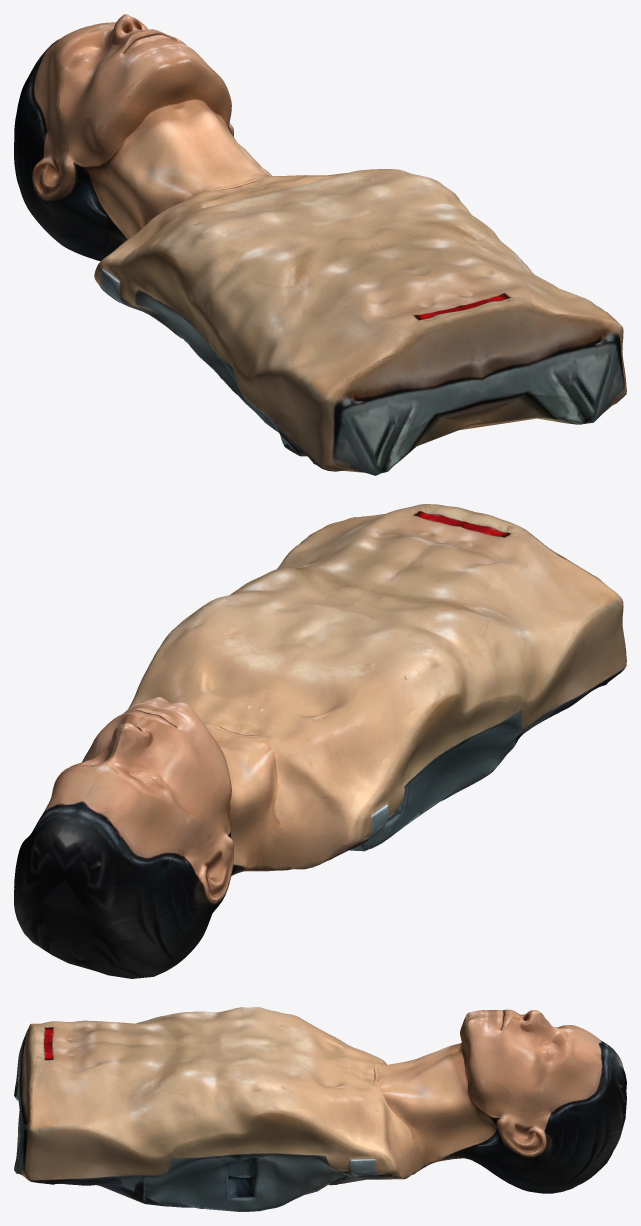
3 renders of one model, top to bottom at view 1: azimuth 30°, elevation 25°; view 2: azimuth 150°, elevation 25°; view 3: azimuth 270°, elevation 25°, orthographic. The views are drawn at different scales.
Visible parts, largest first — view 1: 94b95202-e316-42ee-b12d-348d07b9c768_0; view 2: 94b95202-e316-42ee-b12d-348d07b9c768_0; view 3: 94b95202-e316-42ee-b12d-348d07b9c768_0.
Part boxes in pixels (<box>): 94b95202-e316-42ee-b12d-348d07b9c768_0: <box>14,14,626,475</box>; 94b95202-e316-42ee-b12d-348d07b9c768_0: <box>14,504,626,978</box>; 94b95202-e316-42ee-b12d-348d07b9c768_0: <box>14,1007,626,1211</box>.
Bounding box in the file's own units: 50.54 × 40.62 × 121.
1 material, 1 textured.
